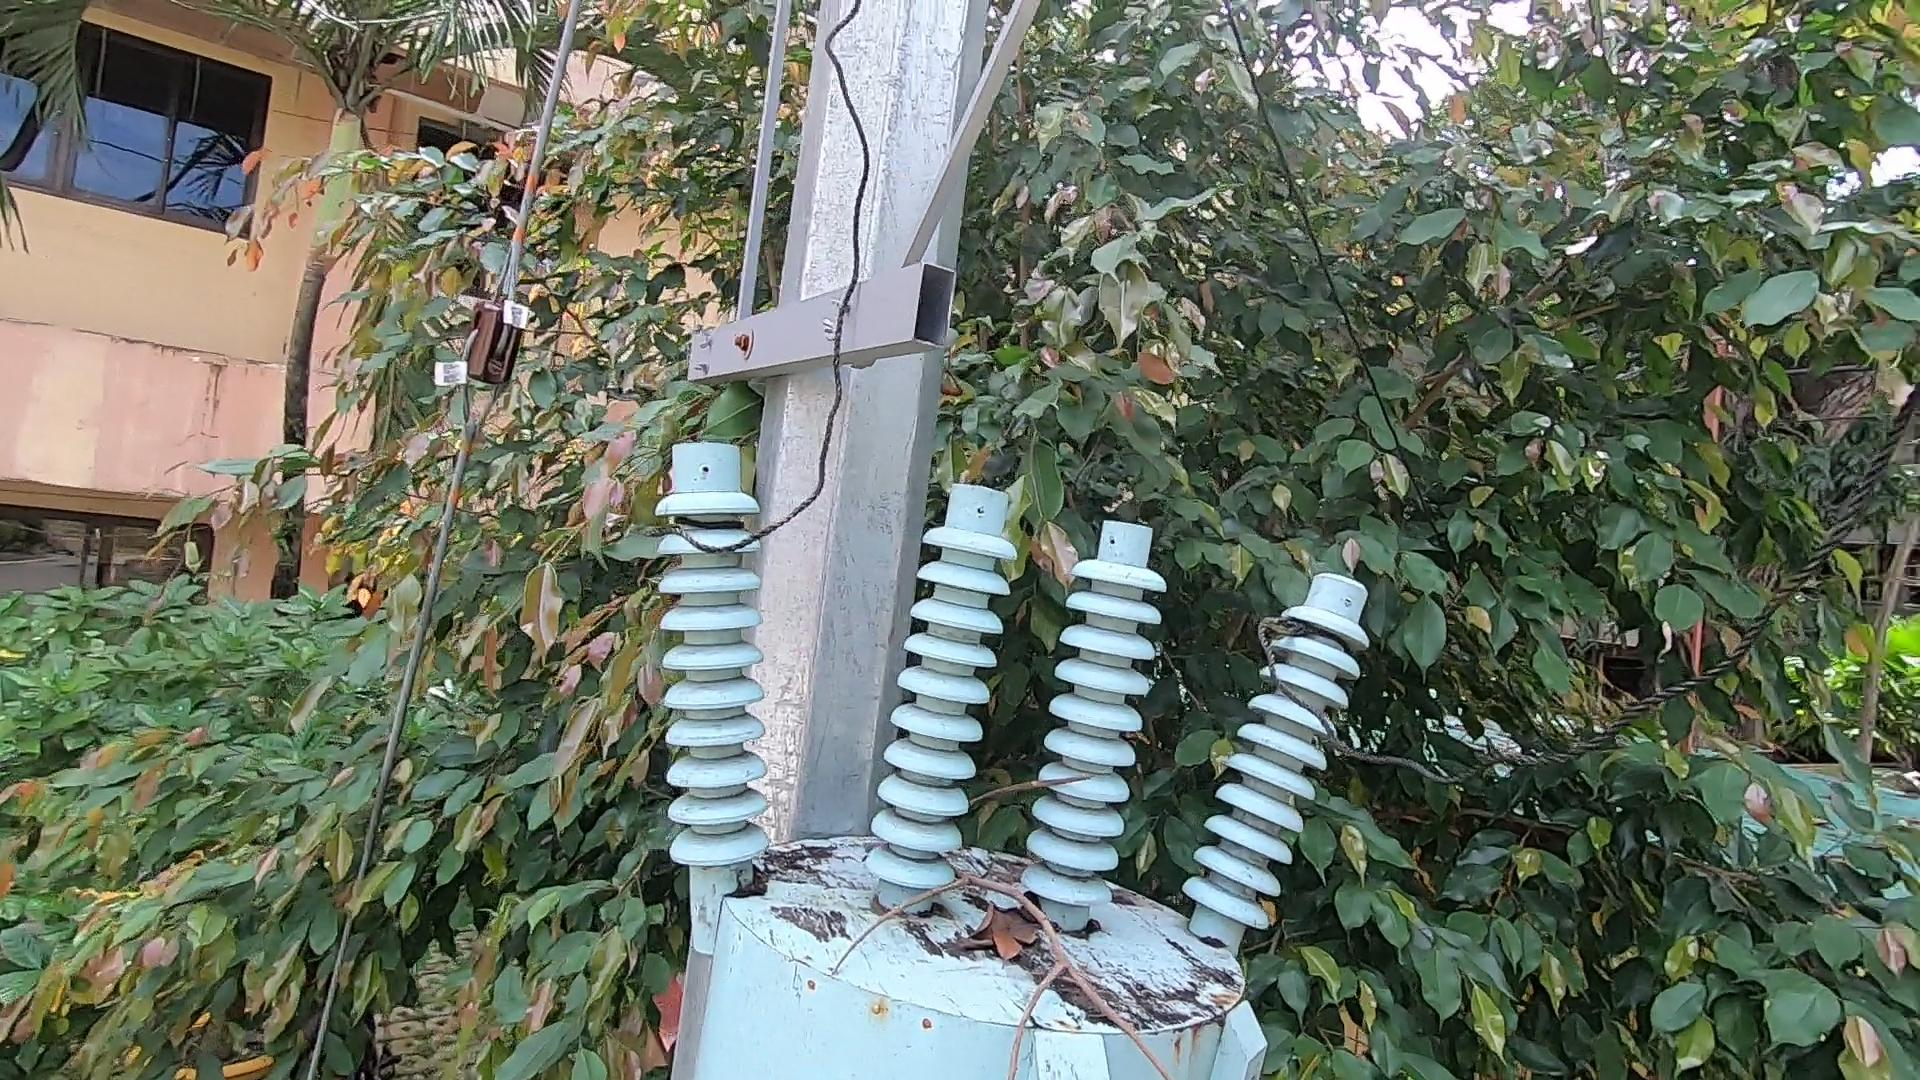leaf: (969, 880, 1048, 969), (723, 851, 777, 895)
tree branch: (815, 753, 1183, 1080)
